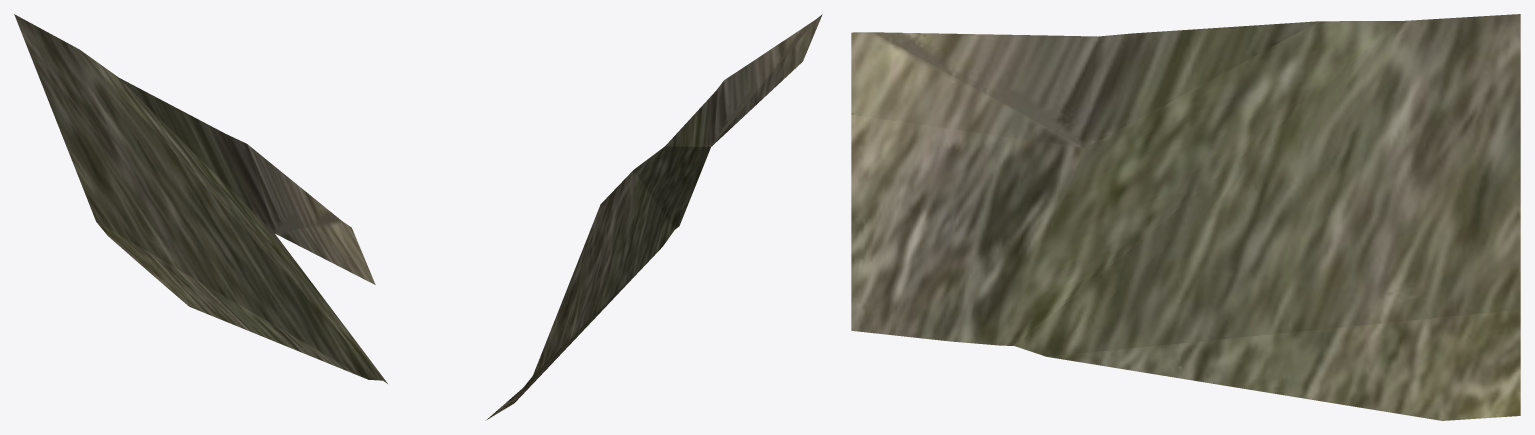
3 renders of one model, left to right at view 1: azimuth 30°, elevation 25°; view 2: azimuth 150°, elevation 25°; view 3: azimuth 270°, elevation 25°, orthographic. The views are drawn at different scales.
Bounding box in the file's own units: 1.57 × 3.23 × 5.9.
Materials: 2 (2 with a texture image).
